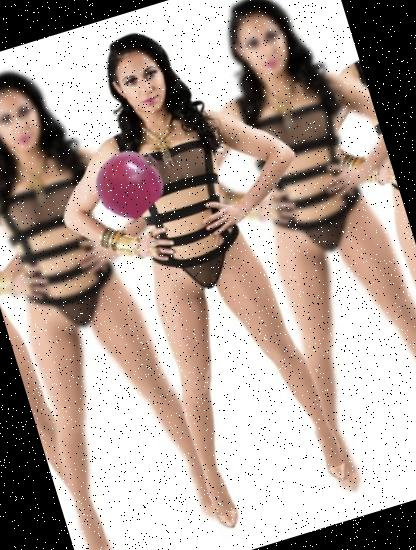Redcurrant: (87, 139, 174, 226)
